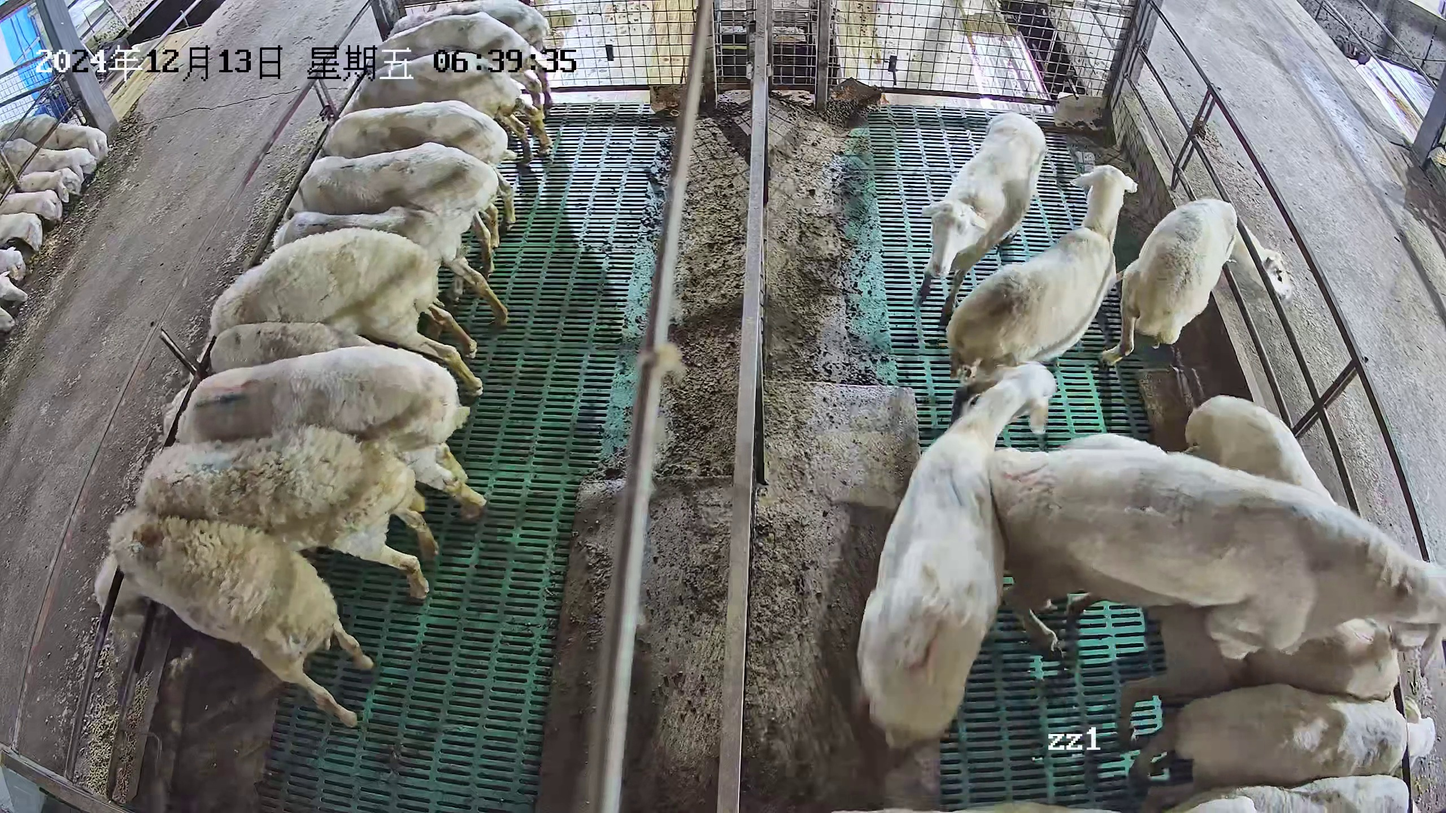Smounting: (984, 445, 1446, 746)
mounted: (1067, 583, 1402, 742)
